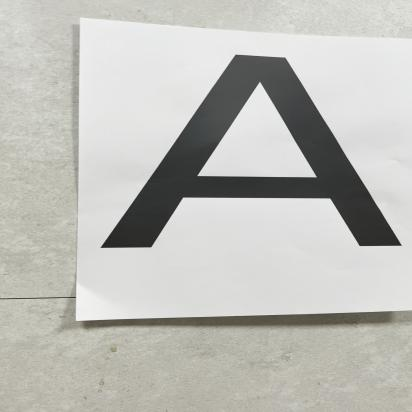seat: (68, 39, 411, 314)
